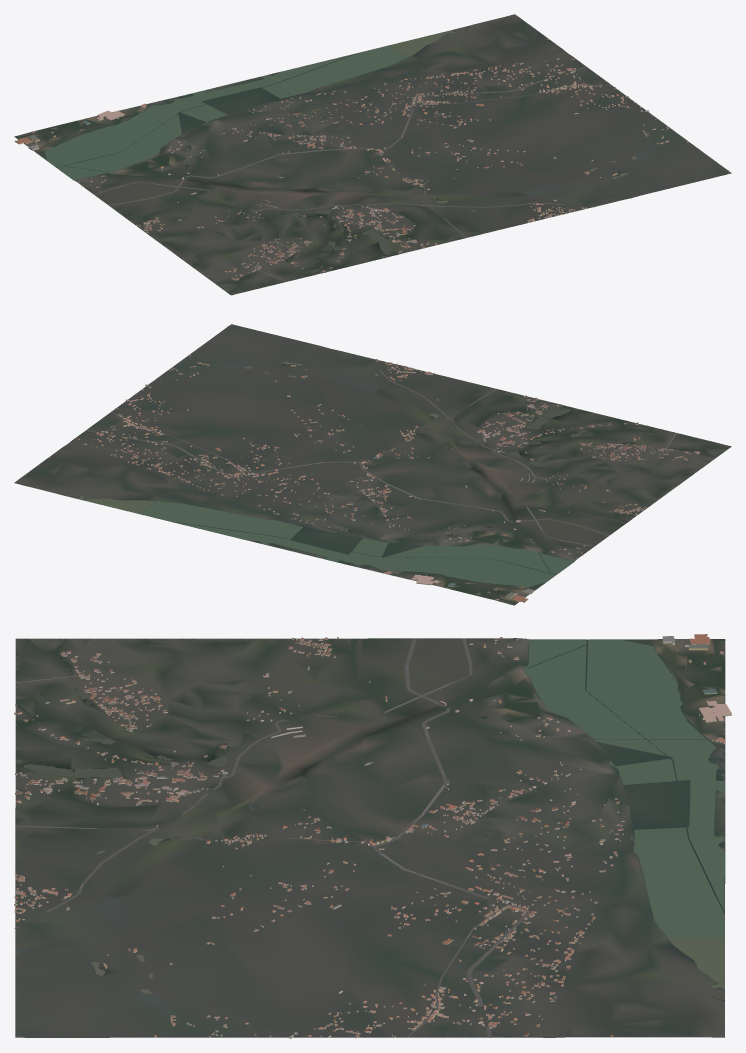
3 renders of one model, top to bottom at view 1: azimuth 30°, elevation 25°; view 2: azimuth 150°, elevation 25°; view 3: azimuth 270°, elevation 25°, orthographic. The views are drawn at different scales.
Visible parts, largest first — view 1: ground, water, buildings, roads; view 2: ground, water, buildings, roads; view 3: ground, water, buildings, roads.
Part boxes in pixels (<box>): ground: <box>14,14,731,295</box>; water: <box>18,27,636,278</box>; buildings: <box>14,39,688,280</box>; roads: <box>94,66,729,281</box>; ground: <box>14,324,731,605</box>; water: <box>66,361,690,604</box>; buildings: <box>49,355,699,602</box>; roads: <box>86,326,676,546</box>; ground: <box>15,638,725,1037</box>; water: <box>16,639,725,997</box>; buildings: <box>14,634,731,1038</box>; roads: <box>14,638,725,1038</box>.
Bounding box in the file's own units: 5665 × 31.12 × 4254.
